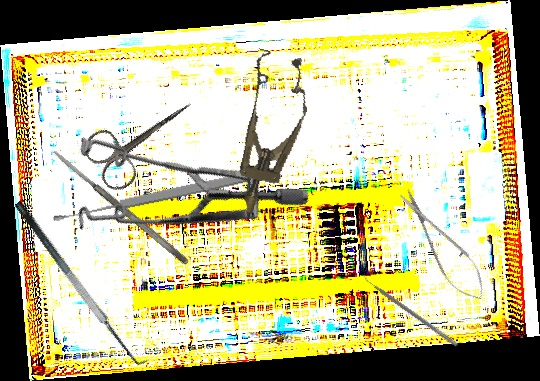Iris Scissors: (78, 79, 209, 196)
Micro Scissor: (389, 182, 496, 309)
Spatula Surgical: (13, 190, 153, 373), (49, 146, 191, 267), (359, 271, 461, 348)
Speculum: (36, 61, 314, 329), (218, 47, 319, 221)
Surgical Spoon: (50, 164, 280, 225)
